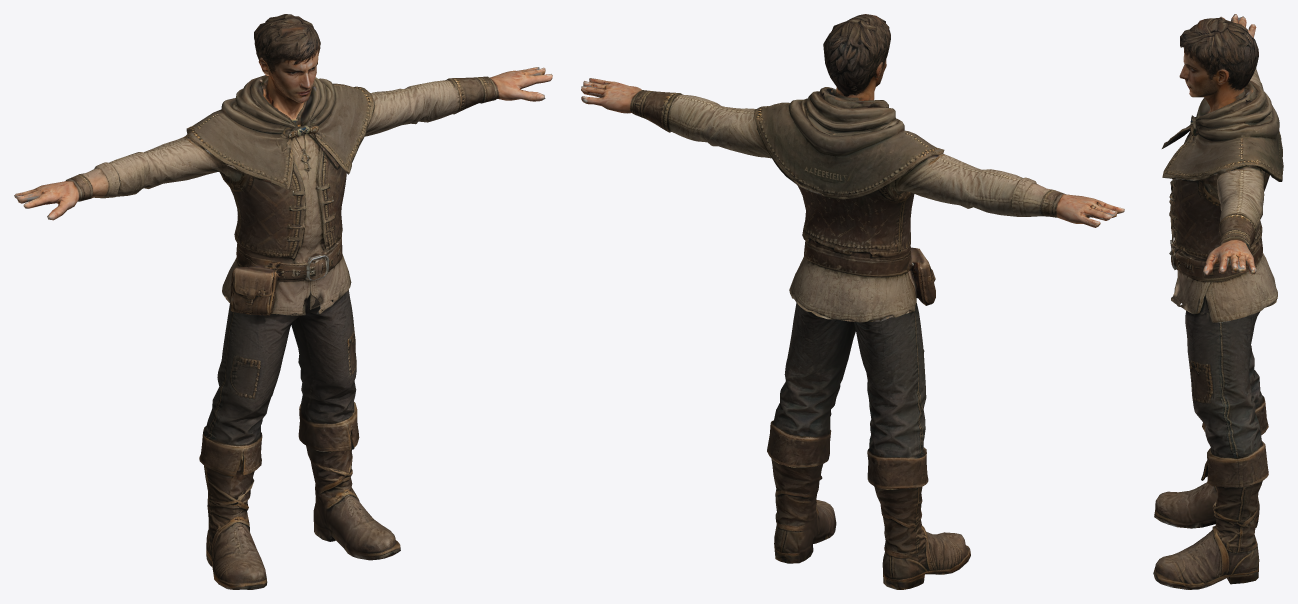
3 renders of one model, left to right at view 1: azimuth 30°, elevation 25°; view 2: azimuth 150°, elevation 25°; view 3: azimuth 270°, elevation 25°, orthographic. The views are drawn at different scales.
Parts seen in each view (by area): view 1: texture_mapping; view 2: texture_mapping; view 3: texture_mapping.
Boxes of the visible parts, x1=… form: texture_mapping: x1=14, y1=14, x2=552, y2=589; texture_mapping: x1=581, y1=14, x2=1124, y2=589; texture_mapping: x1=1153, y1=14, x2=1283, y2=589.
Bounding box in the file's own units: 0.9962 × 0.9666 × 0.2161.
Materials: 1 (1 with a texture image).
